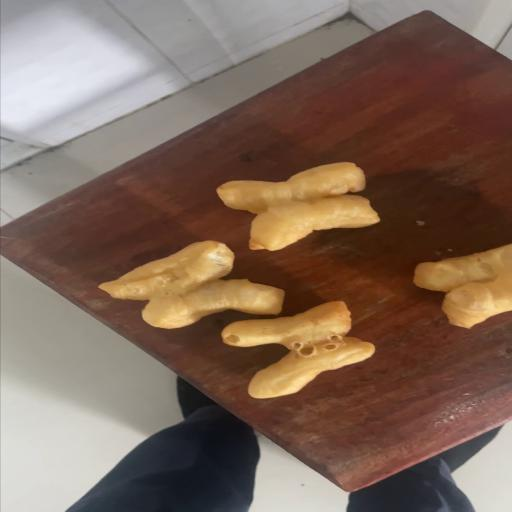street_golden_defect: (99, 241, 284, 329), (221, 301, 375, 398)
street_golden_good: (218, 162, 380, 251), (413, 243, 512, 328)
